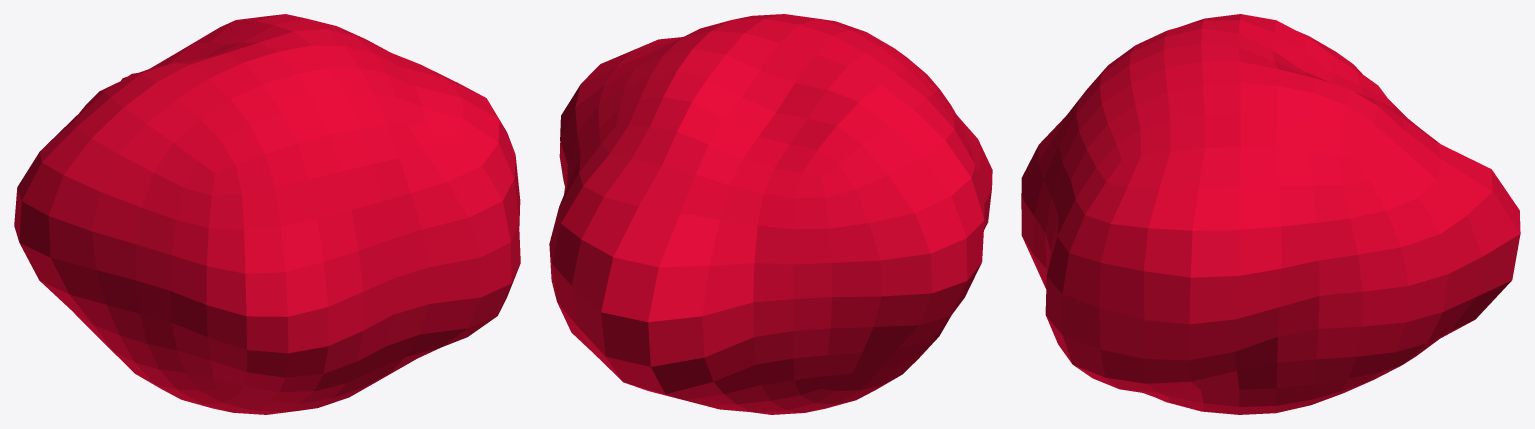
3 renders of one model, left to right at view 1: azimuth 30°, elevation 25°; view 2: azimuth 150°, elevation 25°; view 3: azimuth 270°, elevation 25°, orthographic. The views are drawn at different scales.
Parts seen in each view (by area): view 1: Cube; view 2: Cube; view 3: Cube.
Boxes of the visible parts, left/top/right/bottom form: Cube: left=14, top=14, right=520, bottom=414; Cube: left=549, top=14, right=992, bottom=414; Cube: left=1021, top=14, right=1520, bottom=414.
Bounding box in the file's own units: 216 × 167 × 216.
